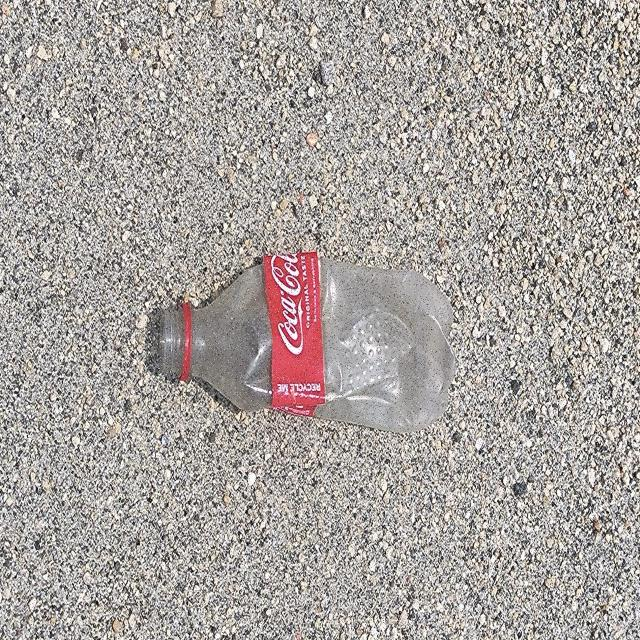plastic_waste: (161, 251, 457, 435)
